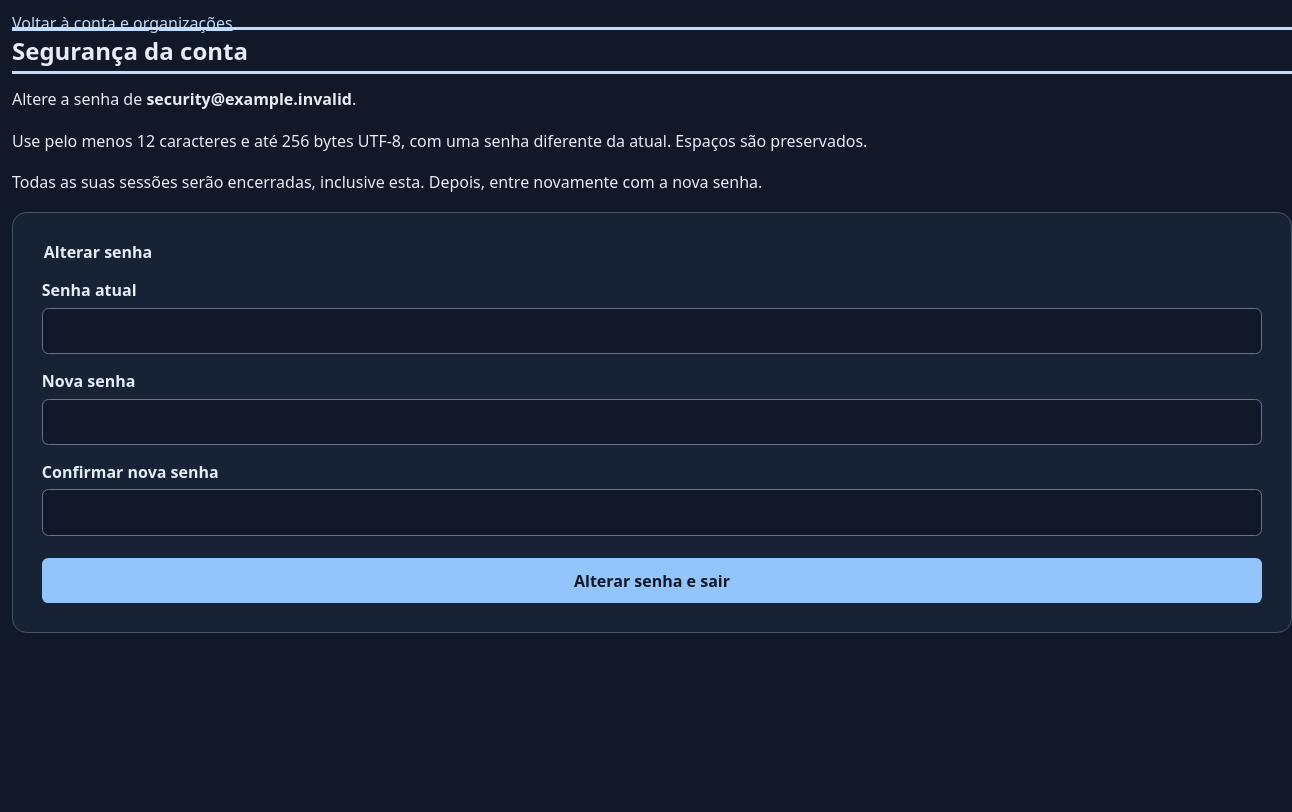
Test: valida confirmação antes de enviar e nunca envia confirmação ao servidor
Type "old-secure-password" into the password field labelled "Senha atual" at (652, 331), box [42,308,1262,354]
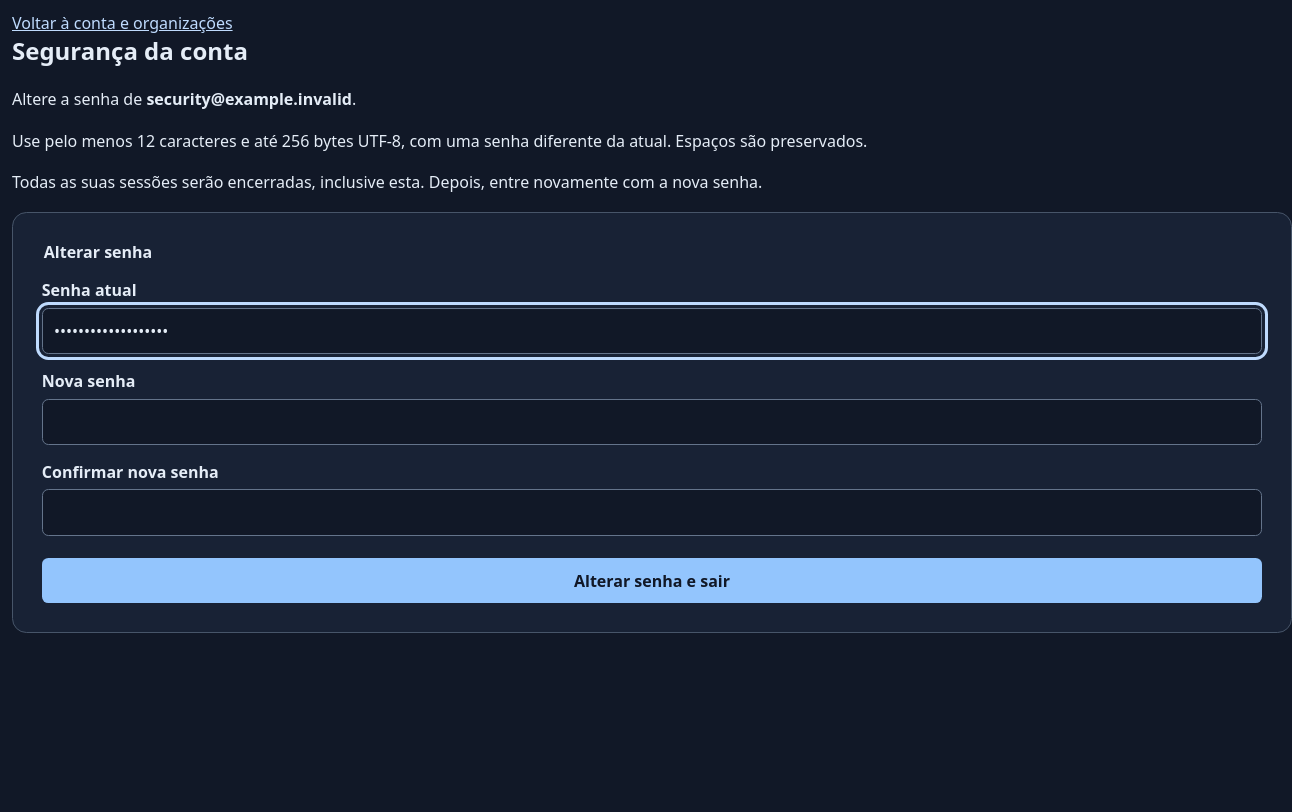
Type "new-secure-password" into the password field labelled "Nova senha" at (652, 422), box [42,399,1262,445]
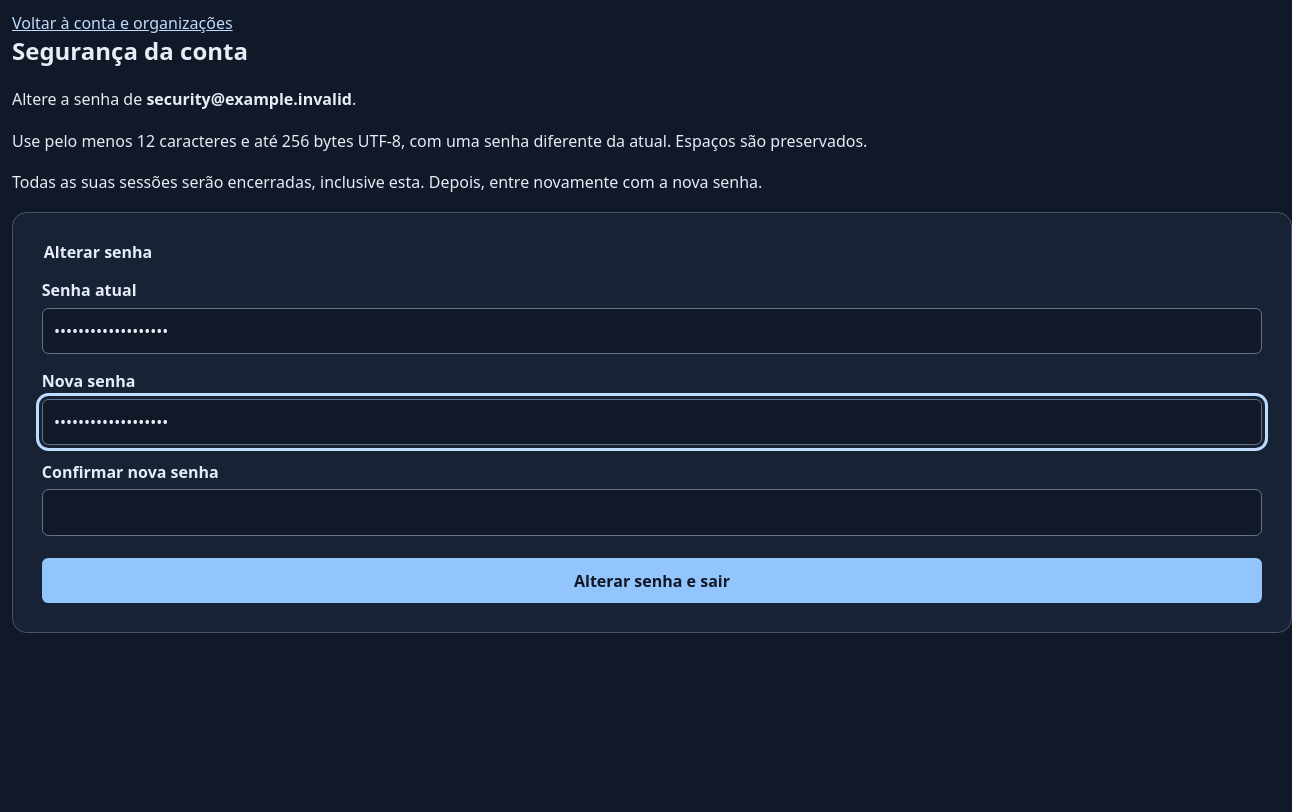
Type "different-confirmation" into the password field labelled "Confirmar nova senha" at (652, 513), box [42,489,1262,536]
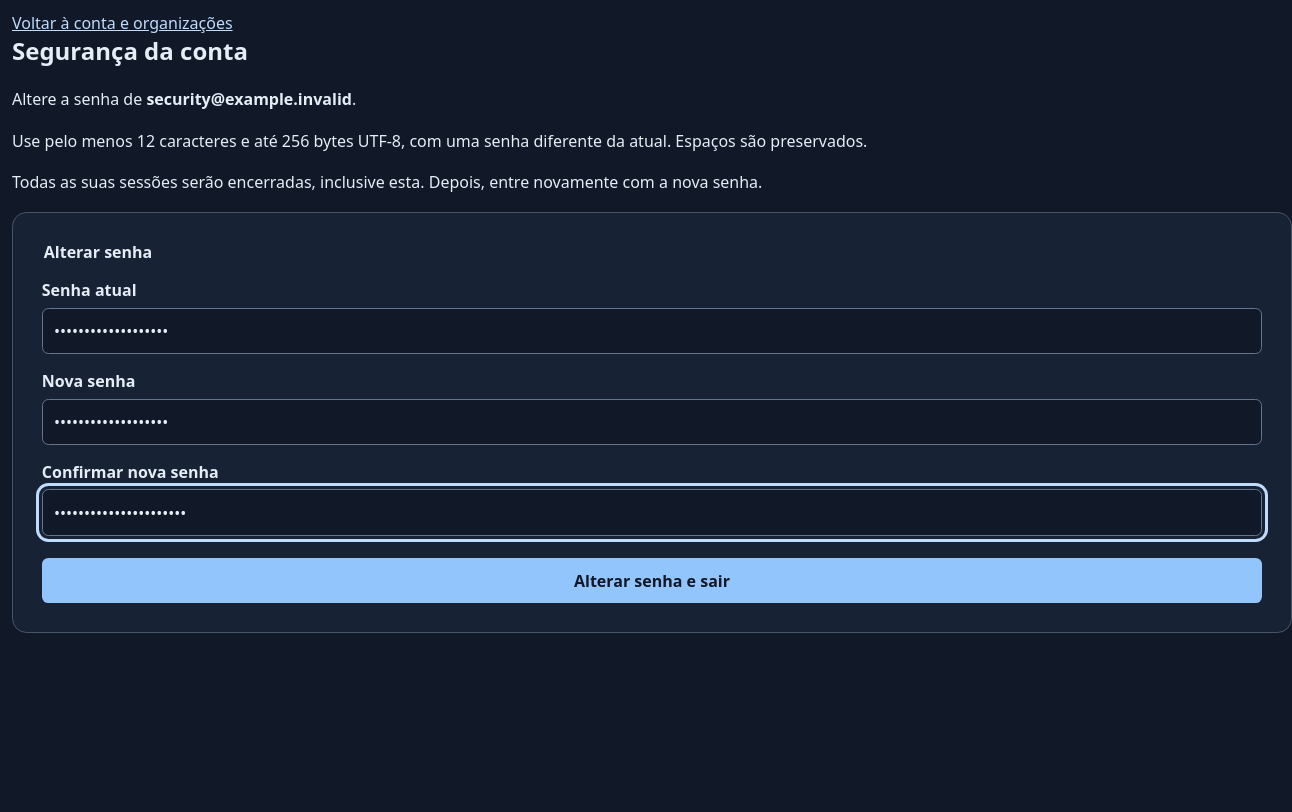
Click the button "Alterar senha e sair" at (652, 581), box [42,558,1262,603]
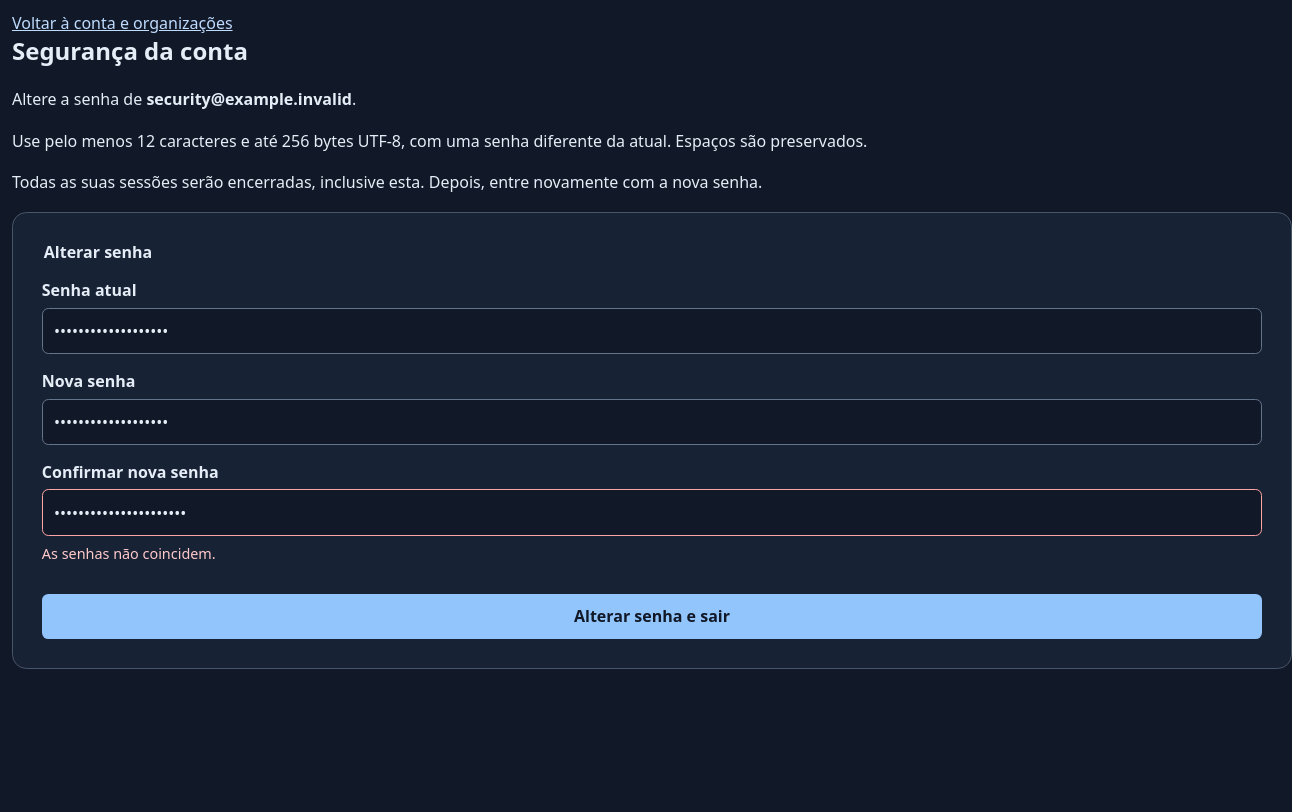
Expected: the text "As senhas não coincidem." is shown, [42,544,216,563]
Type "new-secure-password" into the password field labelled "Confirmar nova senha" at (652, 513), box [42,489,1262,536]
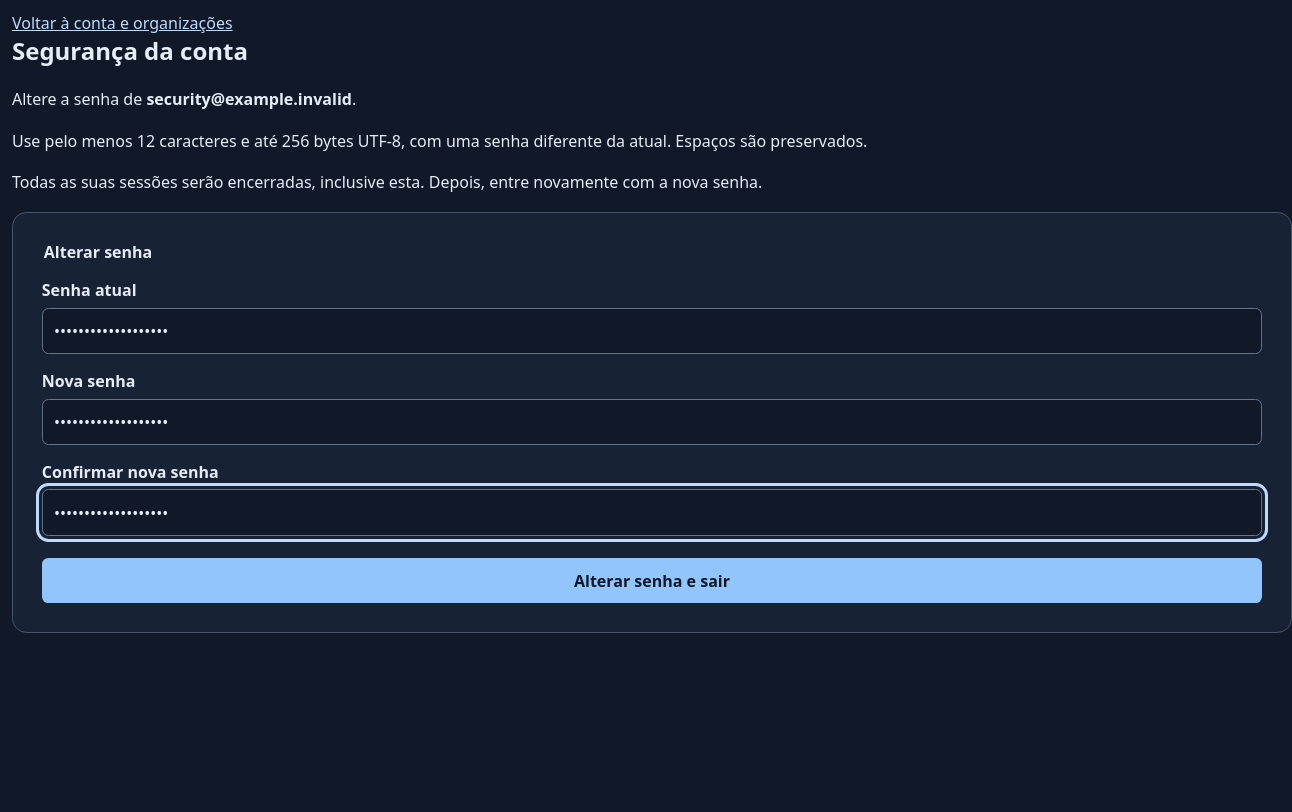
Click the button "Alterar senha e sair" at (652, 581), box [42,558,1262,603]
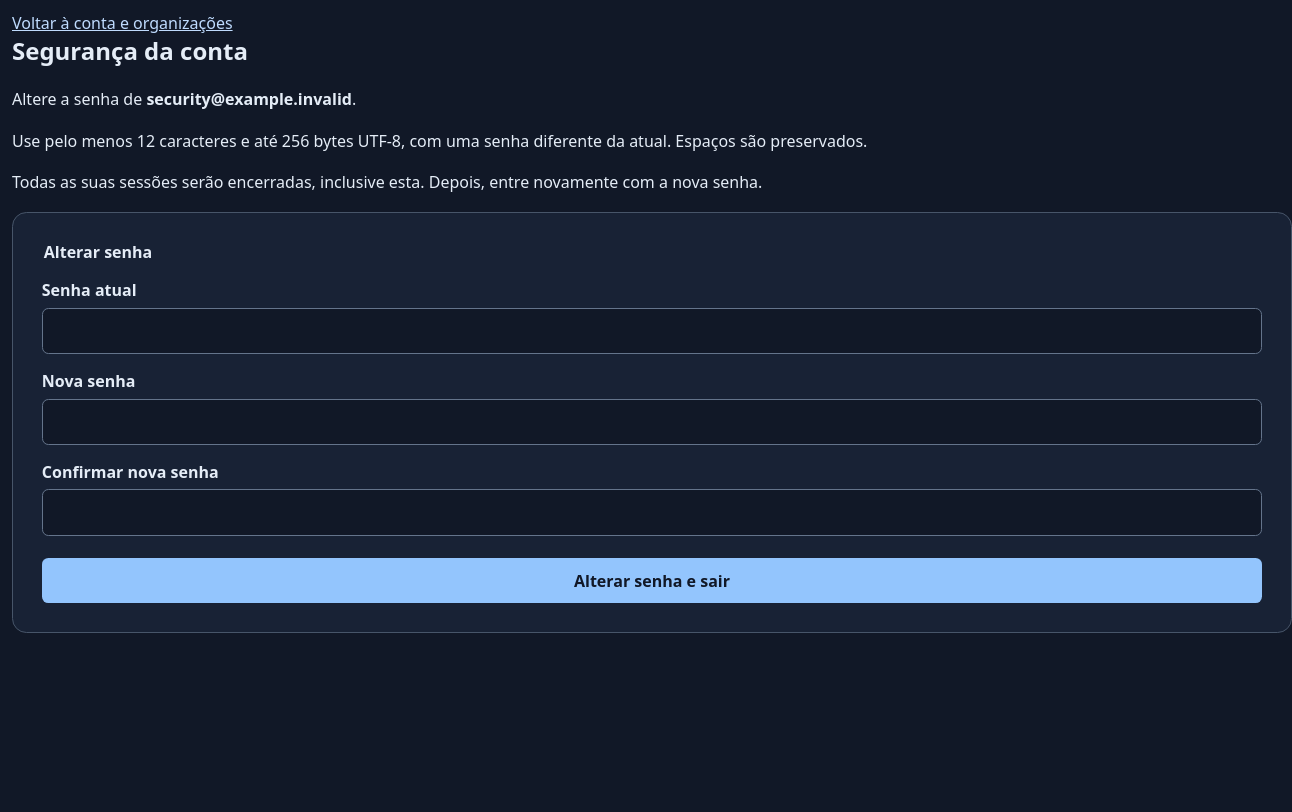
Expected: the password field labelled "Senha atual" is empty, [42,308,1262,354]
Expected: the password field labelled "Nova senha" is empty, [42,399,1262,445]
